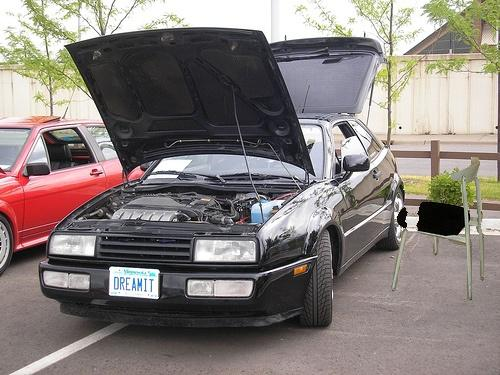tampered: (392, 158, 484, 301)
